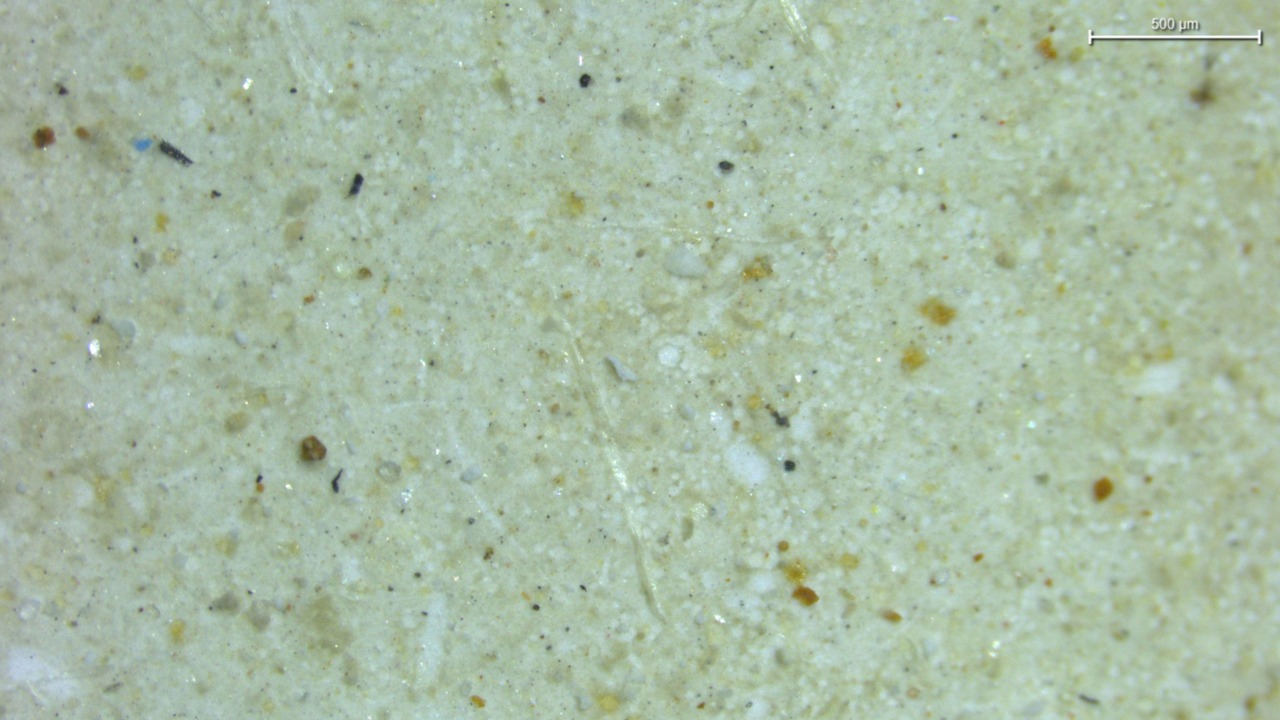microplastic_fragment: (665, 247, 708, 277), (605, 356, 637, 381), (460, 465, 482, 482)
